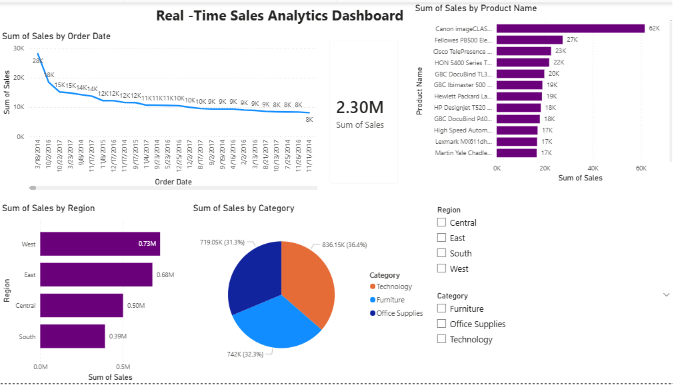

Layout of this report page (visuals, bound fields, positions):
{"tool":"powerbi","page":{"name":"Page 1","canvas":[1280,720],"ordinal":0},"visuals":[{"type":"cardVisual","fields":{"Data":["Sum(Sample - Superstore.Sales)"]},"box":[162.5,400.6,308,120.9],"z":0},{"type":"clusteredBarChart","fields":{"Category":["Sample - Superstore.Region"],"Y":["Sum(Sample - Superstore.Sales)"]},"box":[0,378,360.9,342],"z":1},{"type":"lineChart","fields":{"Category":["Sample - Superstore.Order Date"],"Y":["Sum(Sample - Superstore.Sales)"]},"box":[0,52.9,606.6,306.1],"z":2},{"type":"pieChart","fields":{"Category":["Sample - Superstore.Category"],"Y":["Sum(Sample - Superstore.Sales)"]},"box":[360.9,378,453.5,328.8],"z":3},{"type":"clusteredBarChart","fields":{"Category":["Sample - Superstore.Product Name"],"Y":["Sum(Sample - Superstore.Sales)"]},"box":[780.5,0,498.9,343.9],"z":4},{"type":"slicer","fields":{"Values":["Sample - Superstore.Region"]},"box":[814.5,378,464.9,164.4],"z":5},{"type":"slicer","fields":{"Values":["Sample - Superstore.Category"]},"box":[814.5,540.5,464.9,179.5],"z":6},{"type":"textbox","box":[291,0,489.5,52.9],"z":8},{"type":"cardVisual","fields":{"Data":["Sum(Sample - Superstore.Sales)"]},"box":[606.6,52.9,164.4,306.1],"z":9}]}

Visuals, with their boxes in screenshot pixels (x1, y1, x2, y2), scaled from the page's 1280x720 canvas onto the 673x385 screenshot:
cardVisual - Sum(Sample - Superstore.Sales): pyautogui.locateOnScreen(85, 214, 247, 279)
clusteredBarChart - Sample - Superstore.Region x Sum(Sample - Superstore.Sales): pyautogui.locateOnScreen(0, 202, 190, 384)
lineChart - Sample - Superstore.Order Date x Sum(Sample - Superstore.Sales): pyautogui.locateOnScreen(0, 28, 319, 192)
pieChart - Sample - Superstore.Category x Sum(Sample - Superstore.Sales): pyautogui.locateOnScreen(190, 202, 428, 378)
clusteredBarChart - Sample - Superstore.Product Name x Sum(Sample - Superstore.Sales): pyautogui.locateOnScreen(410, 0, 672, 184)
slicer - Sample - Superstore.Region: pyautogui.locateOnScreen(428, 202, 672, 290)
slicer - Sample - Superstore.Category: pyautogui.locateOnScreen(428, 289, 672, 384)
textbox: pyautogui.locateOnScreen(153, 0, 410, 28)
cardVisual - Sum(Sample - Superstore.Sales): pyautogui.locateOnScreen(319, 28, 405, 192)
